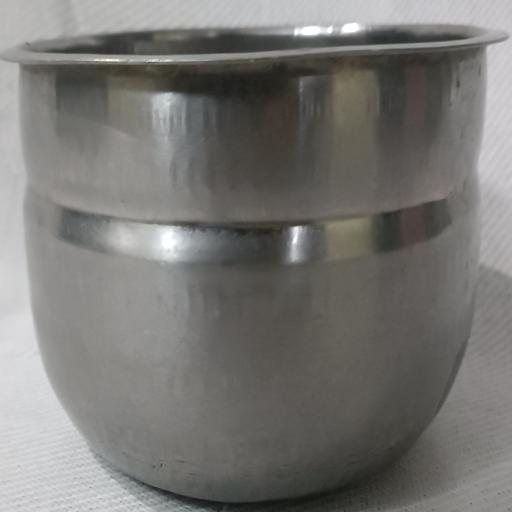vessel: (4, 23, 505, 501)
